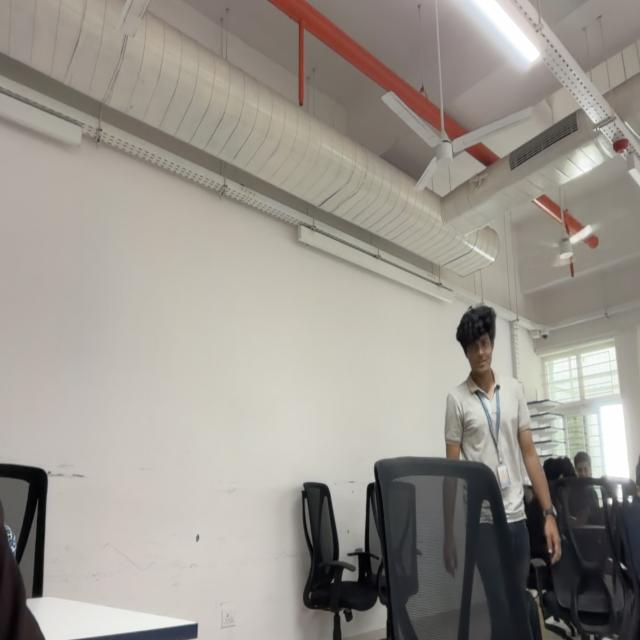kshitij: (456, 306, 497, 375)
